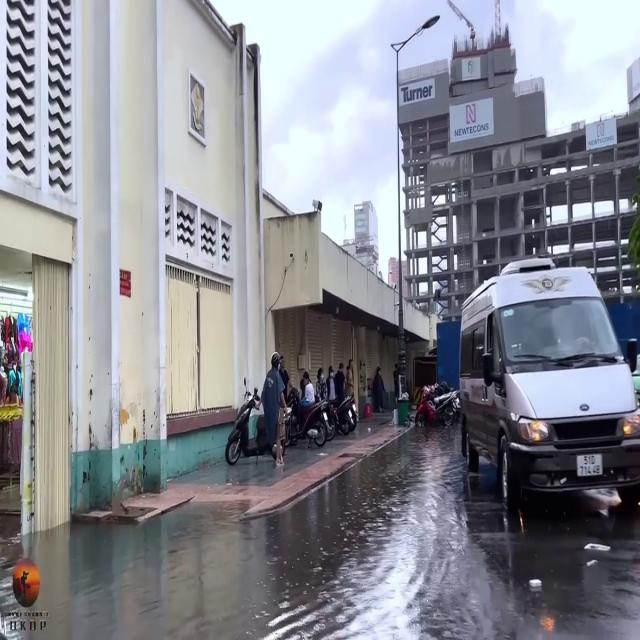bien_trang: (574, 451, 602, 482)
